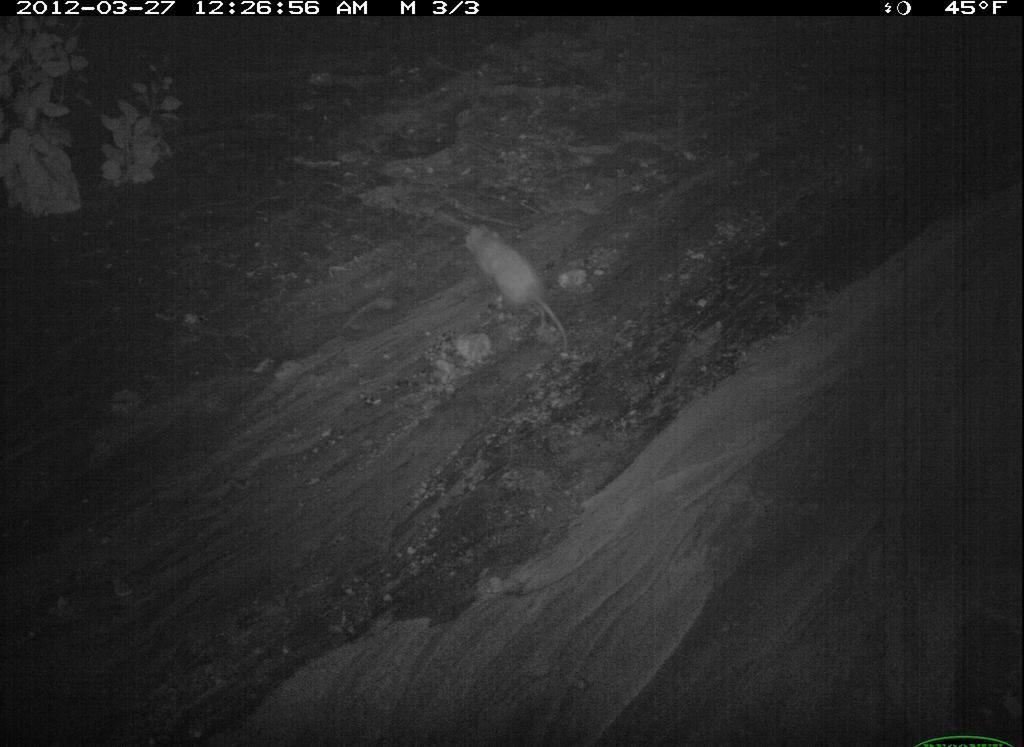opossum: (917, 431, 1024, 733)
